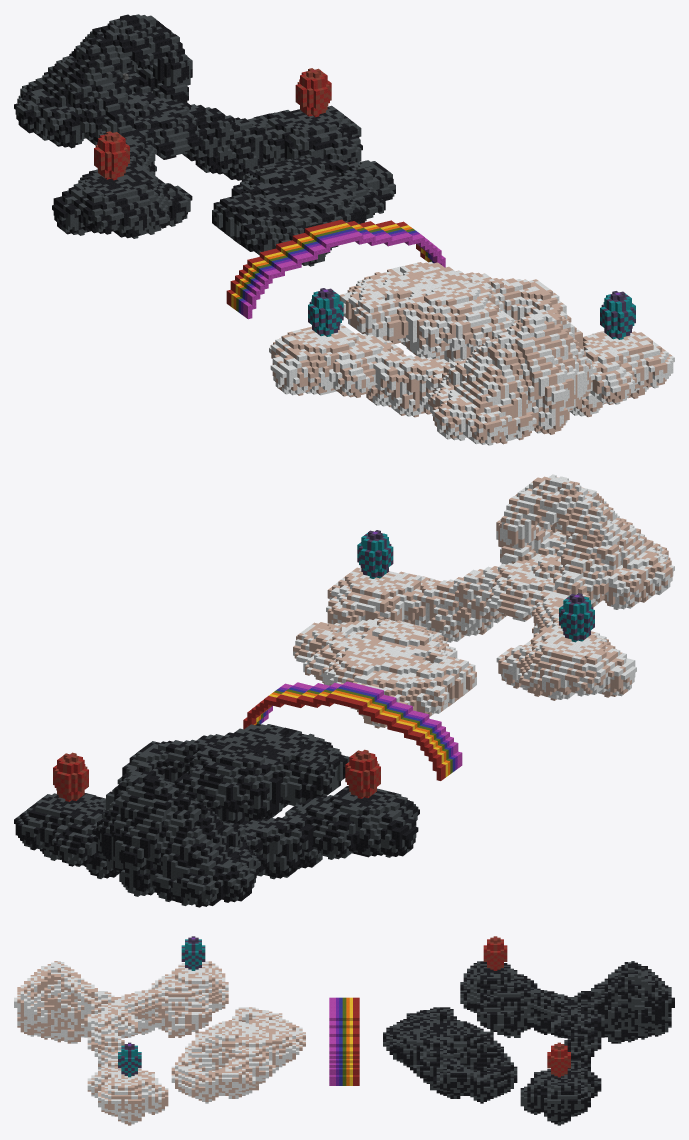
File: minecraft.obj
3 views of the same model, one above another, from view 1: azimuth 30°, elevation 25°; view 2: azimuth 150°, elevation 25°; view 3: azimuth 270°, elevation 25° (orthographic). The views are drawn at different scales.
Size of the model in its own units: 82 by 37 by 197.
